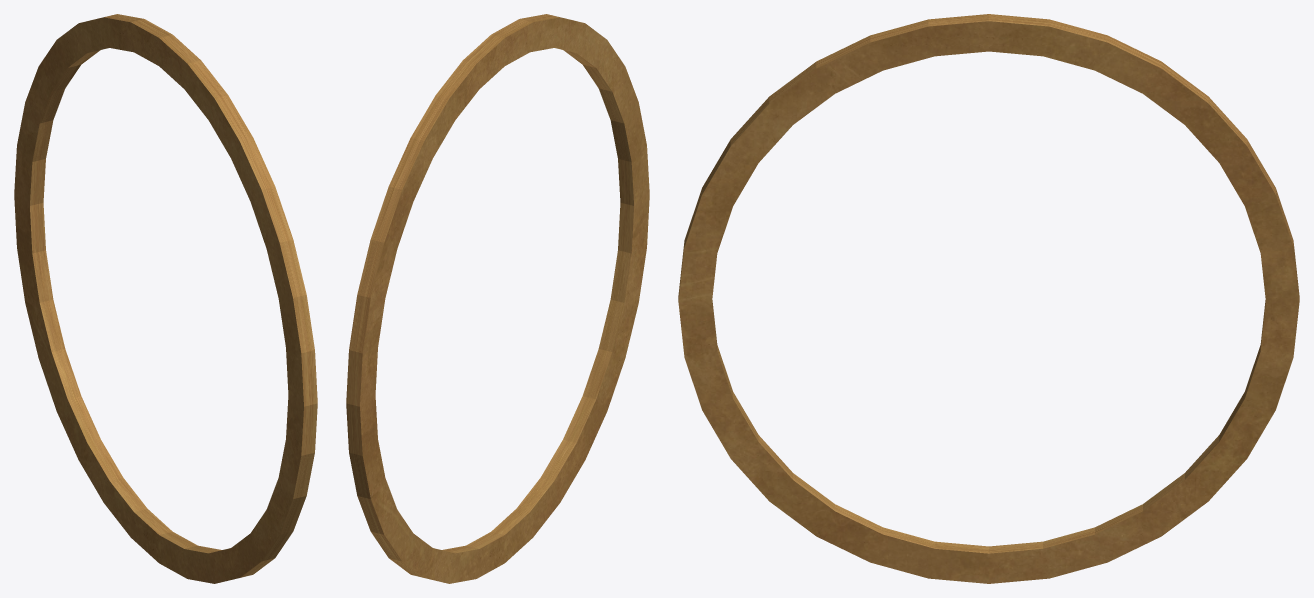
File: SoleilCercleCote.fbx
3 renders of one model, left to right at view 1: azimuth 30°, elevation 25°; view 2: azimuth 150°, elevation 25°; view 3: azimuth 270°, elevation 25°, orthographic. The views are drawn at different scales.
Parts seen in each view (by area): view 1: SoleilCercleCote; view 2: SoleilCercleCote; view 3: SoleilCercleCote.
Boxes of the visible parts, <box> form: SoleilCercleCote: <box>14,14,317,583</box>; SoleilCercleCote: <box>346,14,649,583</box>; SoleilCercleCote: <box>678,14,1299,583</box>.
Bounding box in the file's own units: 8 × 293 × 293.
1 material, 1 textured.
